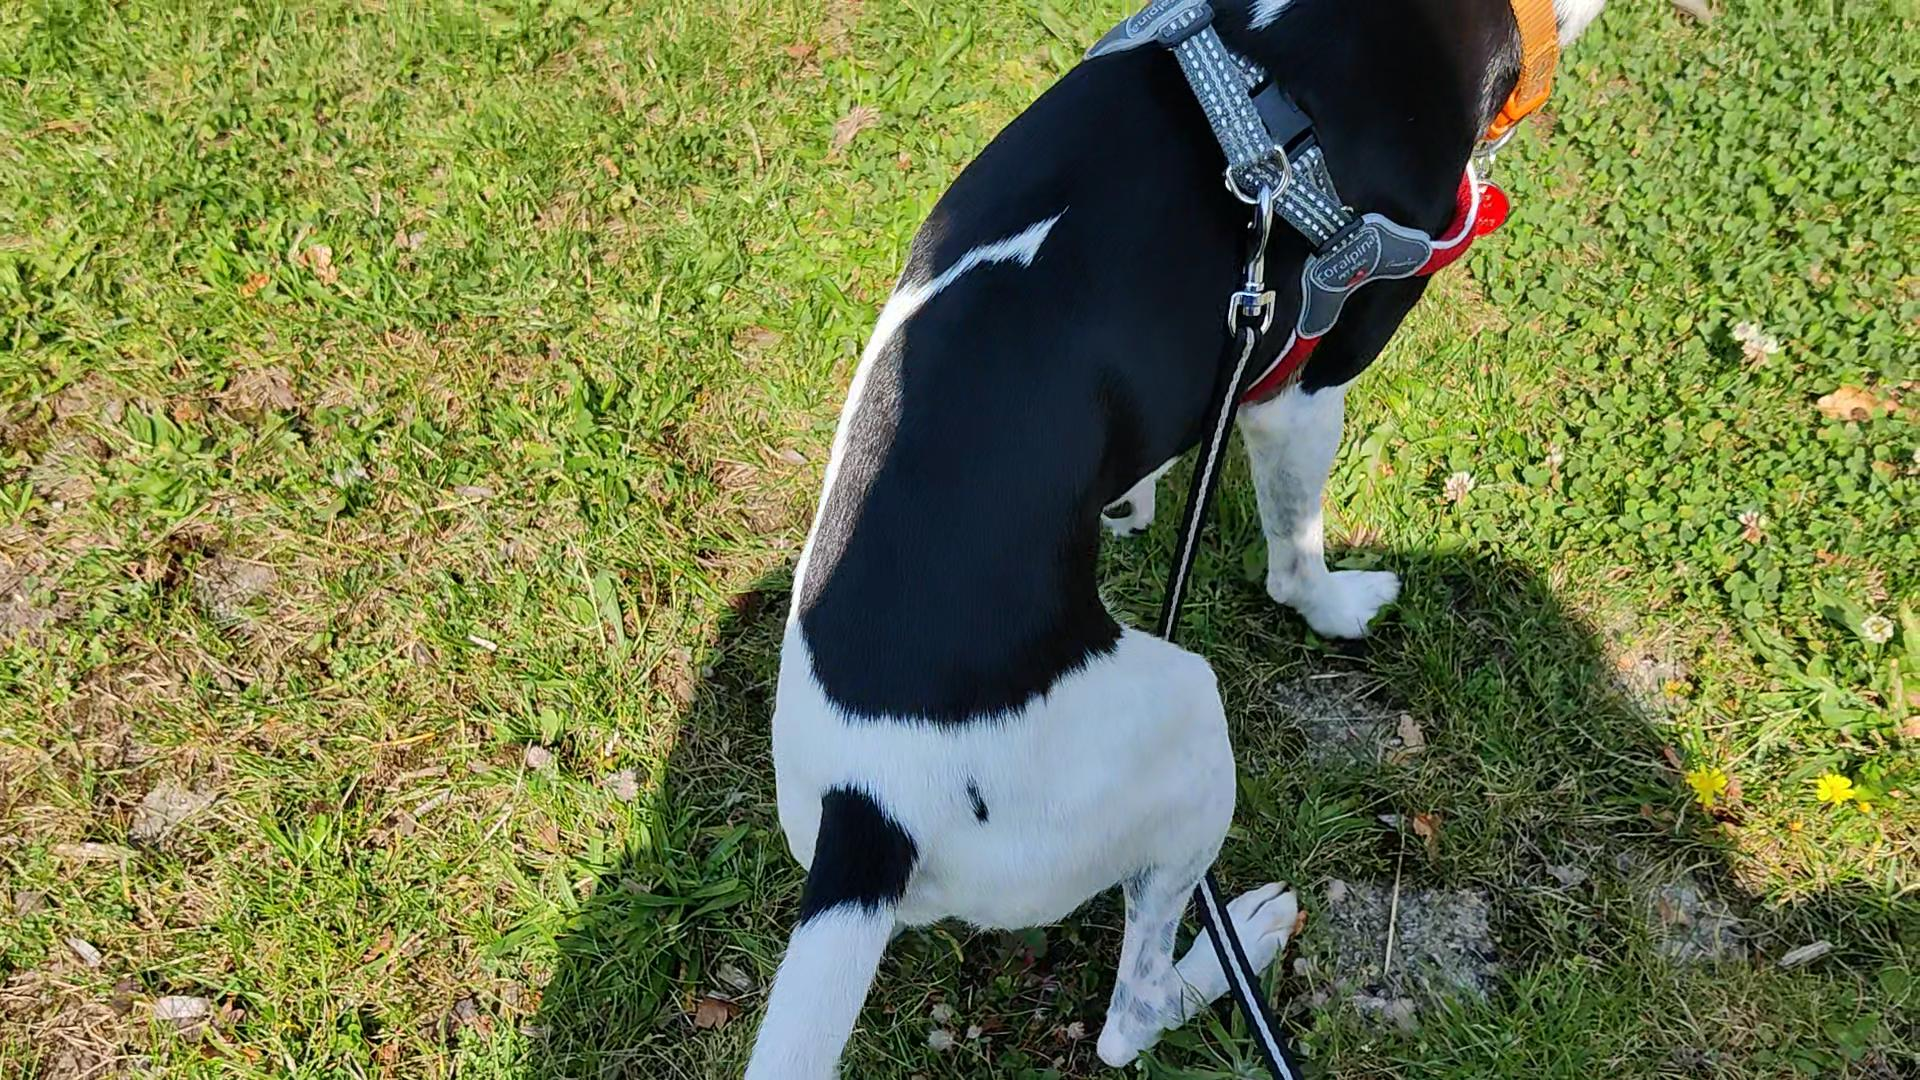Dog: (737, 0, 1607, 1080)
